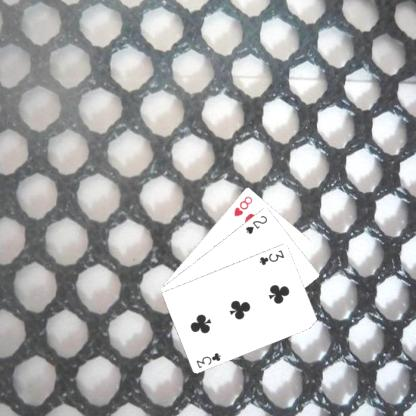2S: (243, 212, 269, 235)
3C: (257, 247, 285, 266), (194, 350, 222, 369)
8H: (231, 193, 254, 218)
